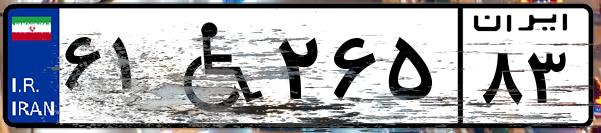1: (110, 28, 158, 98)
2: (270, 28, 330, 110)
3: (525, 38, 570, 115)
5: (385, 28, 445, 110)
6: (330, 28, 385, 110), (57, 26, 110, 100)
8: (475, 38, 525, 113)
ژ (معلولین و جانبازان): (158, 12, 270, 120)
